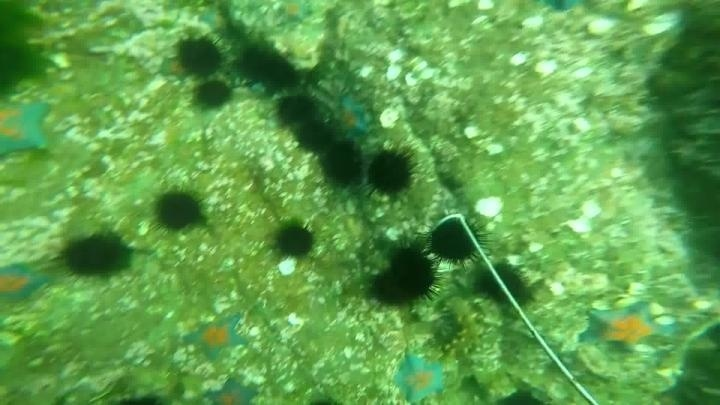echinus: (58, 228, 135, 281), (425, 213, 485, 266), (474, 260, 535, 312), (365, 146, 417, 199), (151, 187, 207, 234), (388, 241, 435, 297), (174, 34, 225, 78), (320, 140, 365, 187), (1, 37, 38, 94), (271, 218, 317, 261), (368, 267, 414, 308), (273, 91, 319, 127), (292, 118, 335, 155), (191, 78, 234, 112), (238, 41, 272, 82), (265, 58, 300, 90)
holothurian: (440, 294, 487, 360)
starfish: (581, 300, 673, 355), (1, 96, 54, 160), (183, 312, 248, 364), (391, 351, 450, 403), (1, 259, 51, 307), (332, 93, 374, 142), (204, 376, 260, 403), (275, 1, 313, 25), (157, 55, 190, 82), (195, 7, 227, 33)
